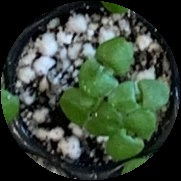Basil: (79, 37, 133, 95), (61, 90, 123, 138), (105, 109, 159, 163), (112, 82, 174, 109)
